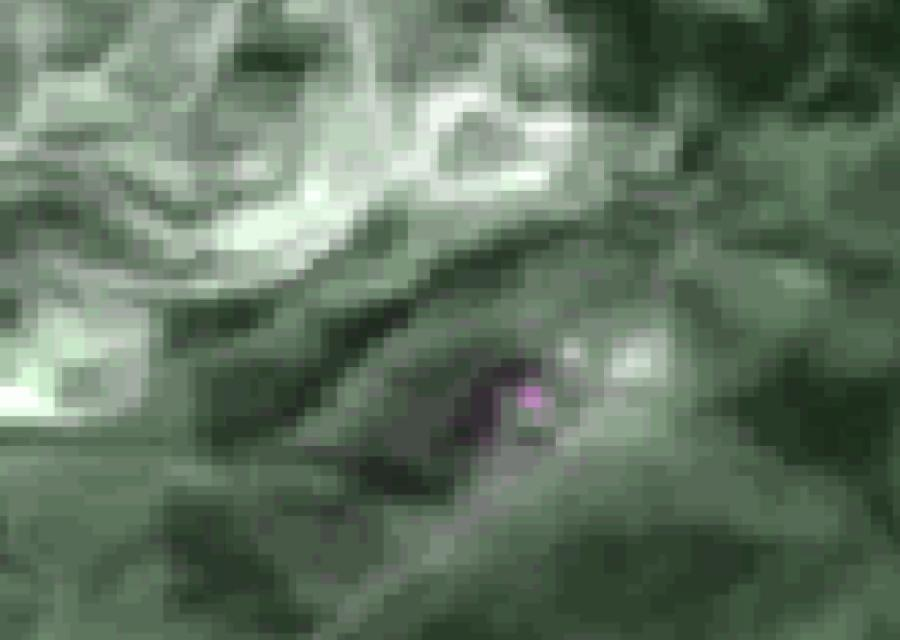Potential Lime Manufacturing Facility: (521, 387, 542, 411)
